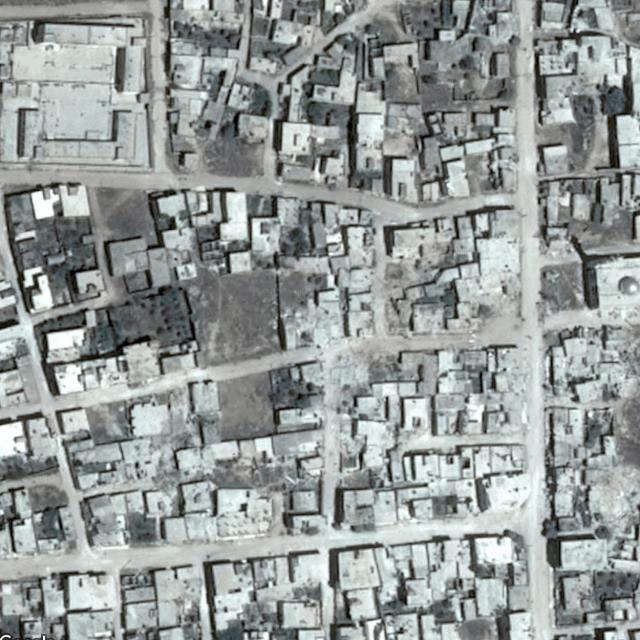damaged_building: (294, 310, 369, 406), (585, 463, 640, 534), (151, 438, 179, 497)
